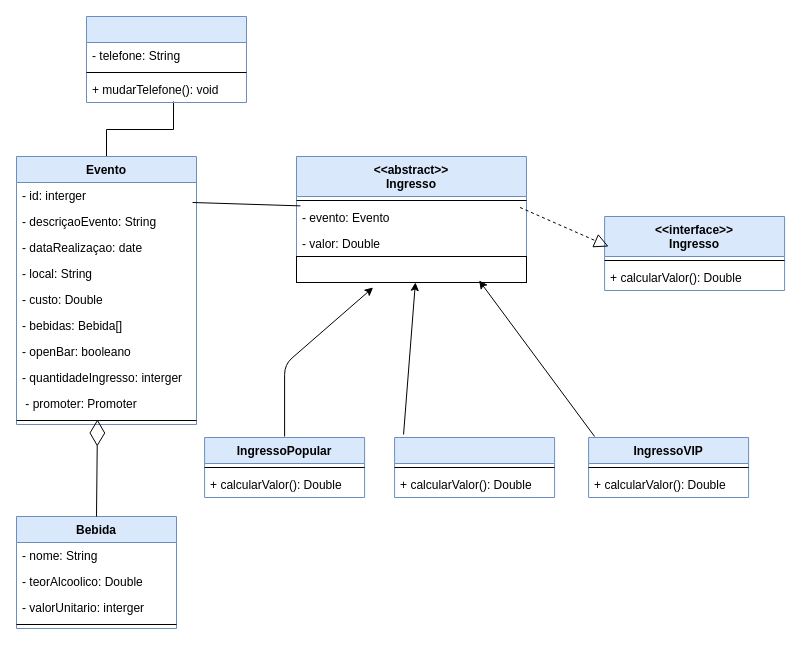
The diagram is 801 pixels wide and 645 high, and some of its shapes have lost their labels. Each missing label, with the box of its shape:
+ definirValor(valor; Double): void: (296, 256, 526, 282)
IngressoNormal: (394, 436, 555, 498)
Promoter: (86, 16, 246, 102)
